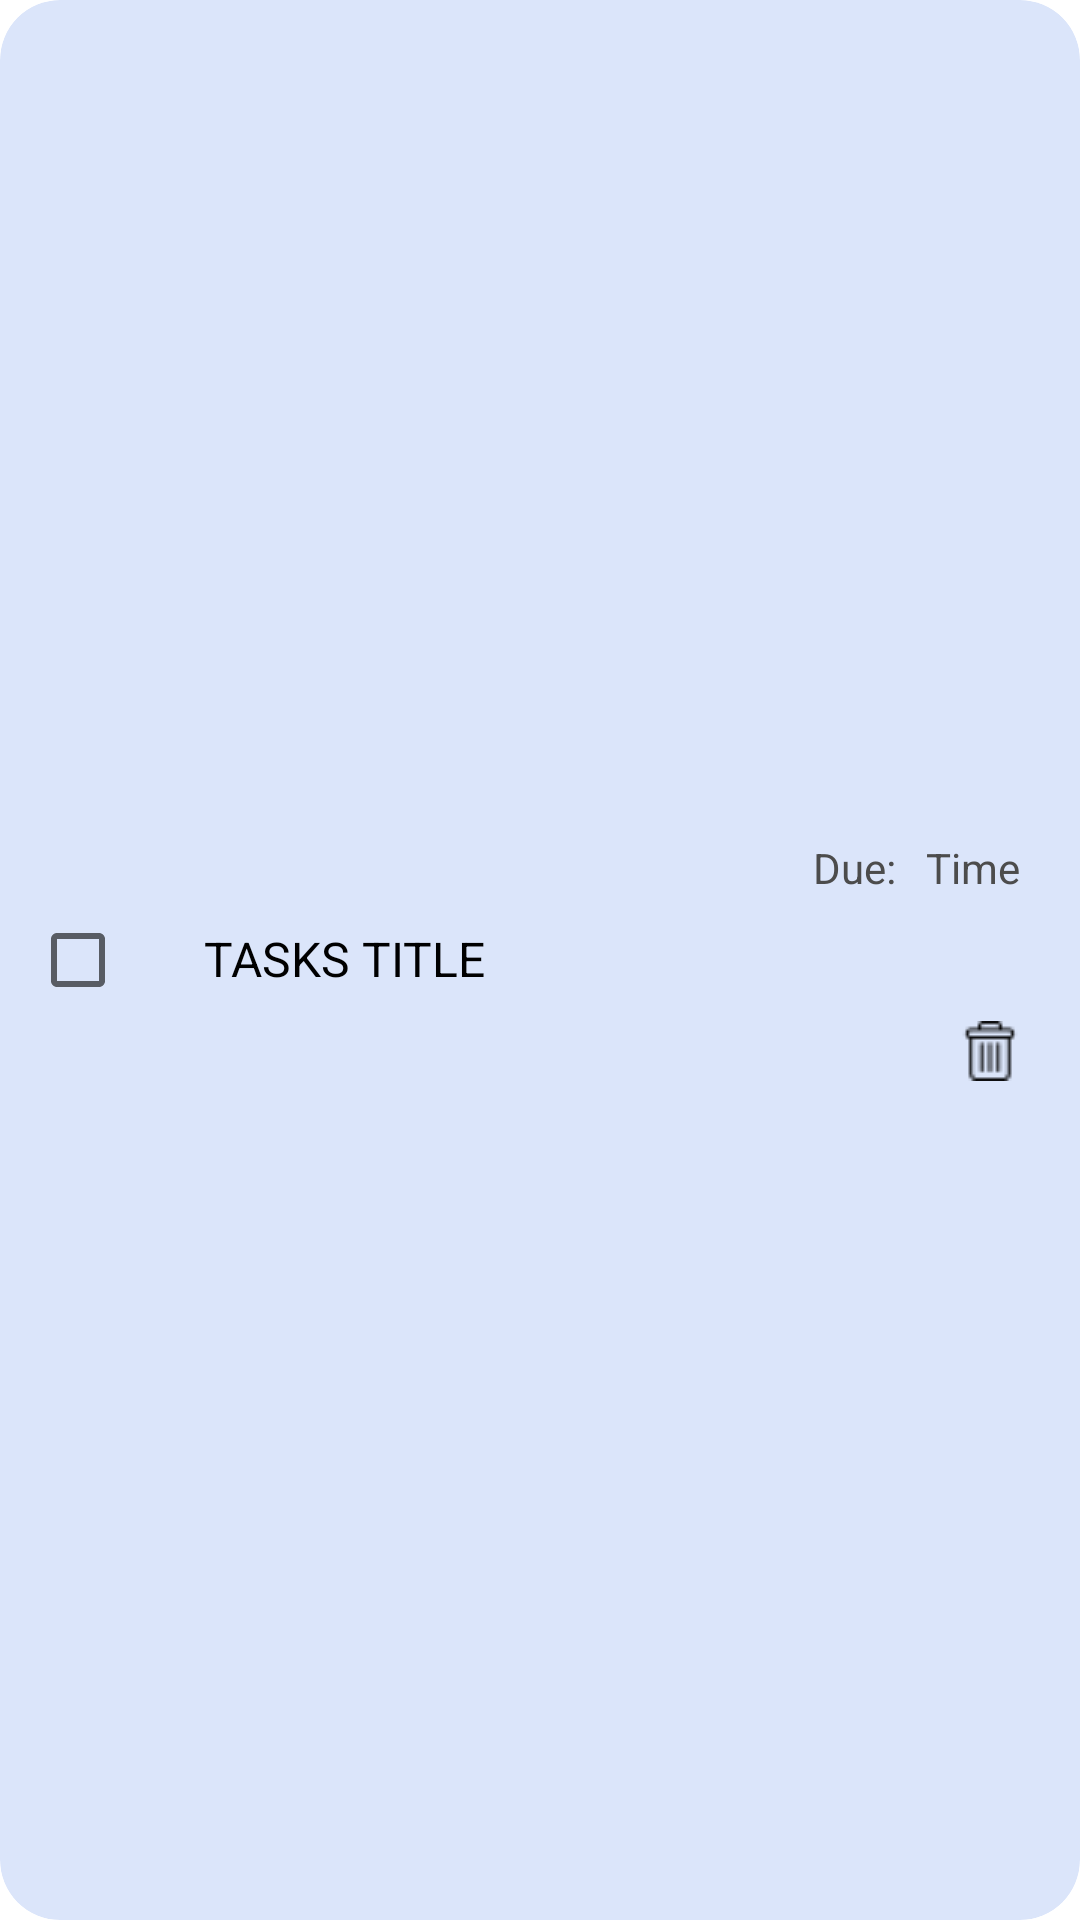

Where icons sit on this 1080 x 1920 app screen, as box=[x1, y1, x2, y2]:
delete: box=[965, 1021, 1015, 1081]
